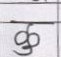u_matra: (13, 46, 34, 56)
